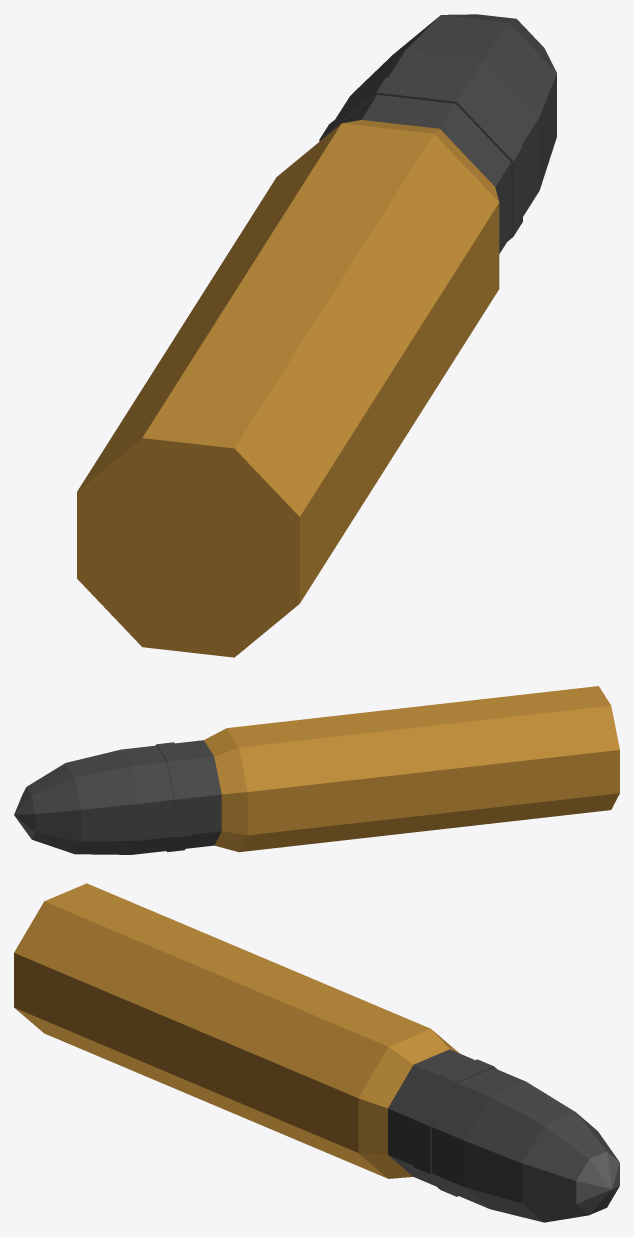
The model's file is ce_ammo_heavy_ap_a.obj.
3 views of the same model, one above another, from view 1: azimuth 30°, elevation 25°; view 2: azimuth 150°, elevation 25°; view 3: azimuth 270°, elevation 25° (orthographic). The views are drawn at different scales.
Visible parts, largest first — view 1: ce_ammo_heavy_ap_a_0, ce_ammo_heavy_ap_a_5, ce_ammo_heavy_ap_a_4, ce_ammo_heavy_ap_a_2, ce_ammo_heavy_ap_a_3, ce_ammo_heavy_ap_a_1; view 2: ce_ammo_heavy_ap_a_0, ce_ammo_heavy_ap_a_5, ce_ammo_heavy_ap_a_4, ce_ammo_heavy_ap_a_6, ce_ammo_heavy_ap_a_1, ce_ammo_heavy_ap_a_2, ce_ammo_heavy_ap_a_3, ce_ammo_heavy_ap_a_7; view 3: ce_ammo_heavy_ap_a_0, ce_ammo_heavy_ap_a_5, ce_ammo_heavy_ap_a_6, ce_ammo_heavy_ap_a_1, ce_ammo_heavy_ap_a_4, ce_ammo_heavy_ap_a_2, ce_ammo_heavy_ap_a_3, ce_ammo_heavy_ap_a_7.
Part boxes in pixels (x1,y1,x2,y2): ce_ammo_heavy_ap_a_0: (77,123,499,657); ce_ammo_heavy_ap_a_5: (352,15,556,189); ce_ammo_heavy_ap_a_4: (335,50,539,216); ce_ammo_heavy_ap_a_2: (343,95,511,253); ce_ammo_heavy_ap_a_3: (319,77,522,240); ce_ammo_heavy_ap_a_1: (343,120,498,201); ce_ammo_heavy_ap_a_0: (226,686,619,852); ce_ammo_heavy_ap_a_5: (66,749,138,854); ce_ammo_heavy_ap_a_4: (121,745,174,854); ce_ammo_heavy_ap_a_6: (27,763,80,853); ce_ammo_heavy_ap_a_1: (204,728,247,851); ce_ammo_heavy_ap_a_2: (175,740,221,848); ce_ammo_heavy_ap_a_3: (156,742,192,852); ce_ammo_heavy_ap_a_7: (14,787,35,839); ce_ammo_heavy_ap_a_0: (14,883,430,1178); ce_ammo_heavy_ap_a_5: (464,1081,575,1222); ce_ammo_heavy_ap_a_6: (522,1112,619,1222); ce_ammo_heavy_ap_a_1: (358,1029,459,1178); ce_ammo_heavy_ap_a_4: (431,1068,525,1208); ce_ammo_heavy_ap_a_2: (388,1049,474,1186); ce_ammo_heavy_ap_a_3: (414,1059,497,1196); ce_ammo_heavy_ap_a_7: (576,1151,619,1215).
Size of the model in its own units: 0.7684 by 0.1848 by 0.7684.
